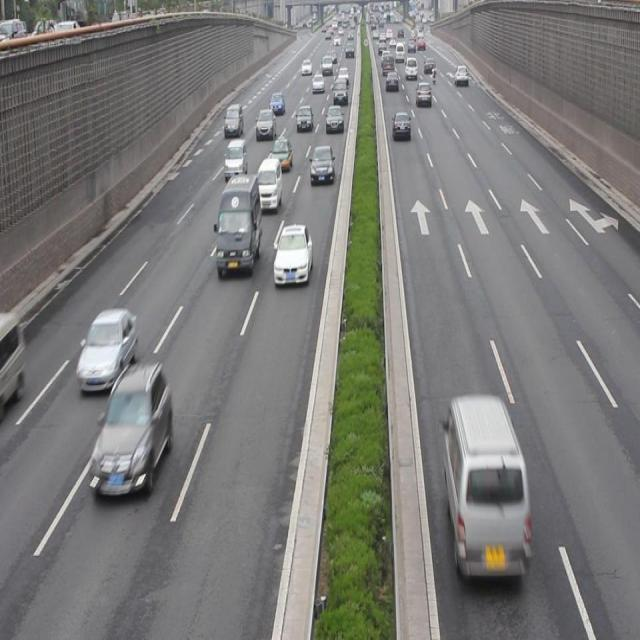car: (92, 359, 172, 496), (76, 308, 138, 390), (273, 222, 311, 286), (310, 145, 334, 184), (269, 135, 291, 170), (224, 103, 244, 138), (256, 108, 276, 140), (324, 103, 344, 134), (391, 110, 410, 139), (295, 104, 313, 132)
truck: (442, 390, 528, 576), (216, 172, 260, 274), (1, 308, 24, 416), (256, 156, 281, 211), (224, 139, 248, 180)
